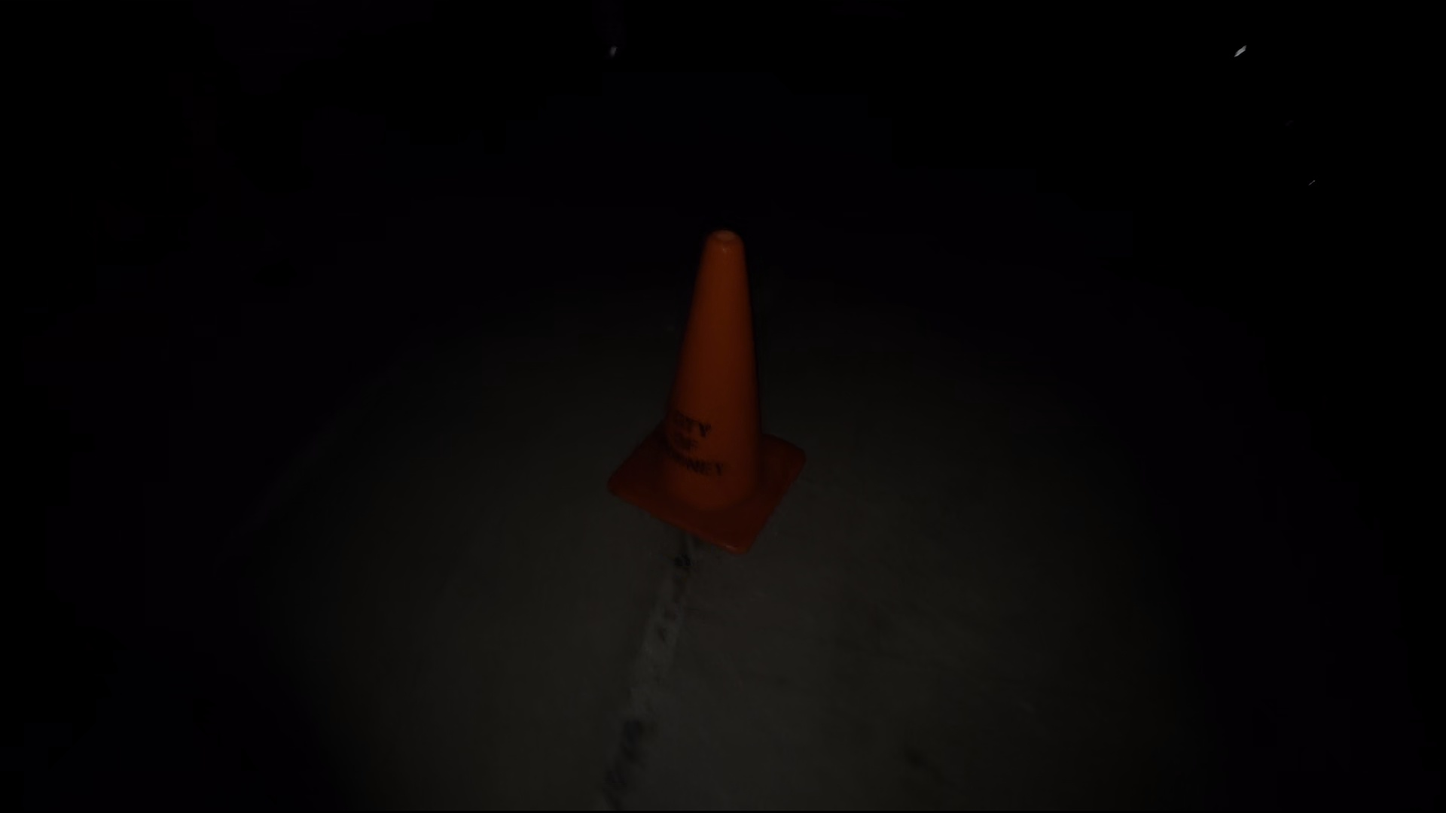traffic_cone: (605, 228, 807, 554)
